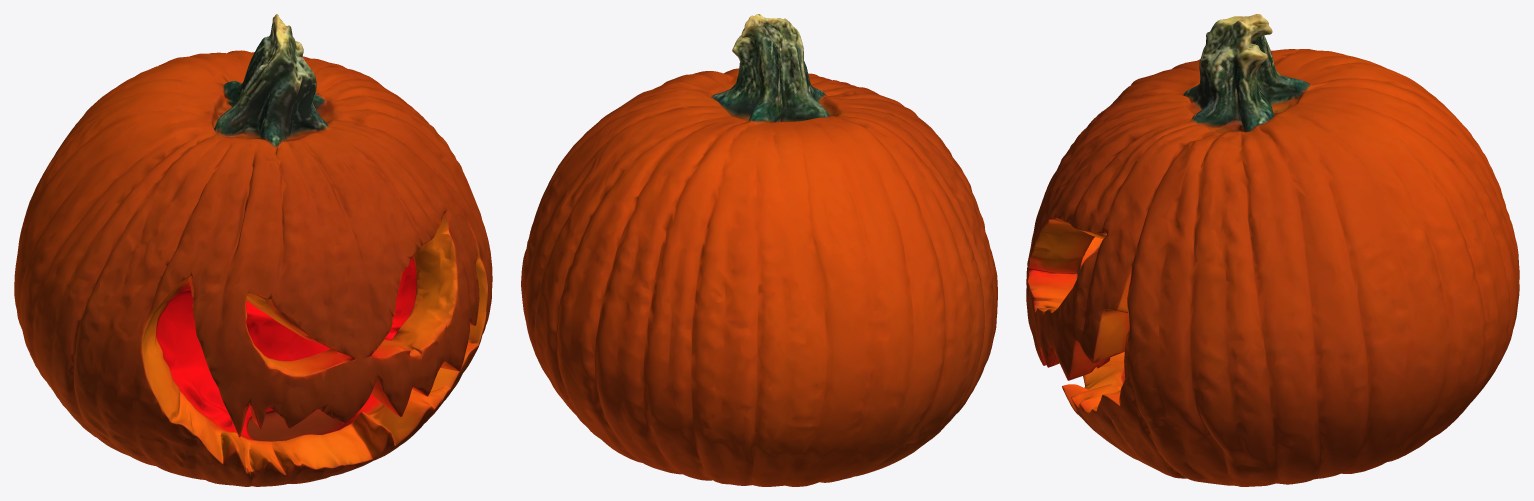
File: helmet-pumpkin.glb
3 views of the same model, side by side, from view 1: azimuth 30°, elevation 25°; view 2: azimuth 150°, elevation 25°; view 3: azimuth 270°, elevation 25° (orthographic). The views are drawn at different scales.
Parts seen in each view (by area): view 1: tripo_node_9d6bcf6c-8846-4f5b-a4e9-e4385c3361c9; view 2: tripo_node_9d6bcf6c-8846-4f5b-a4e9-e4385c3361c9; view 3: tripo_node_9d6bcf6c-8846-4f5b-a4e9-e4385c3361c9.
Boxes of the visible parts, <box> form: tripo_node_9d6bcf6c-8846-4f5b-a4e9-e4385c3361c9: <box>14,14,492,486</box>; tripo_node_9d6bcf6c-8846-4f5b-a4e9-e4385c3361c9: <box>521,14,997,486</box>; tripo_node_9d6bcf6c-8846-4f5b-a4e9-e4385c3361c9: <box>1026,14,1519,486</box>.
Size of the model in its own units: 0.9807 by 0.9547 by 0.9789.
1 material, 1 textured.
